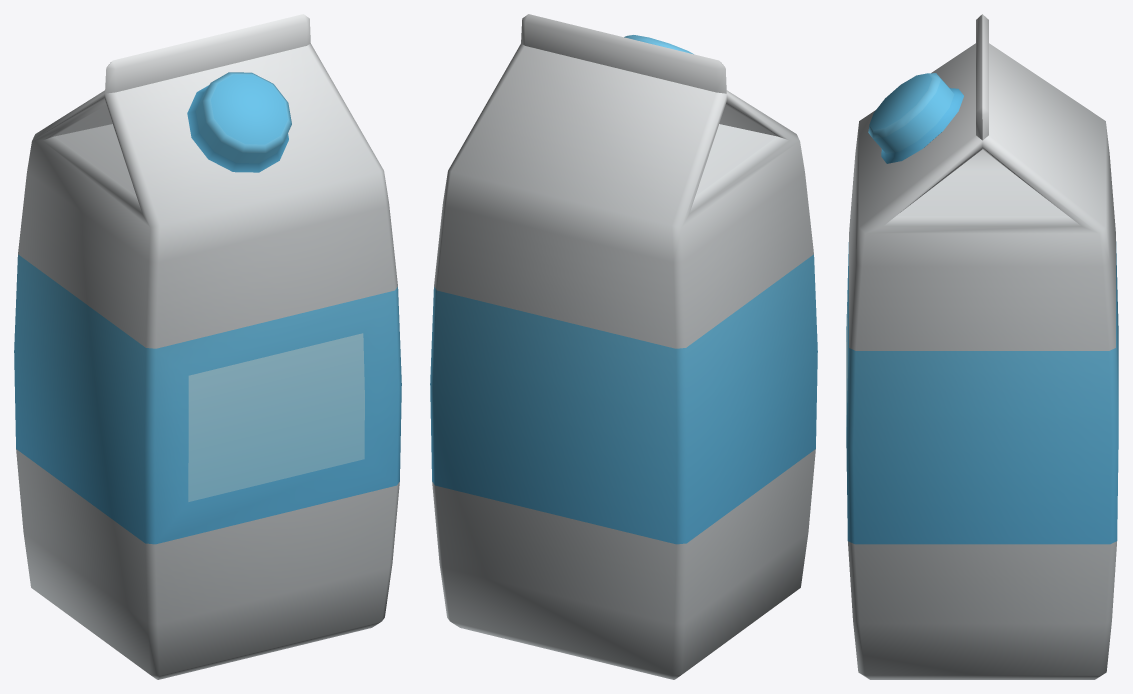
The model's file is milk_003.fbx.
The picture shows the model from 3 angles, left to right: view 1: azimuth 30°, elevation 25°; view 2: azimuth 150°, elevation 25°; view 3: azimuth 270°, elevation 25°; orthographic projection.
Parts seen in each view (by area): view 1: milk_003; view 2: milk_003; view 3: milk_003.
Part boxes in pixels (x1,y1,x2,y2): milk_003: (14, 14, 401, 679); milk_003: (430, 14, 817, 679); milk_003: (846, 14, 1118, 679).
Size of the model in its own units: 8.97 by 8.32 by 19.16.
